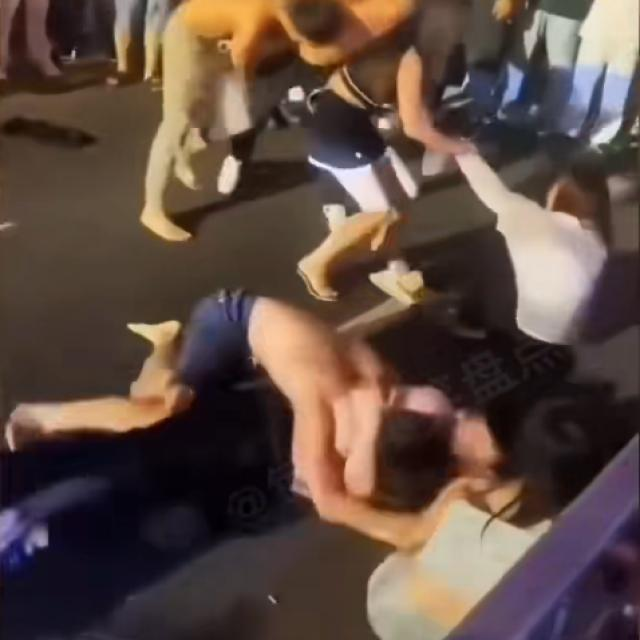fight: (236, 279, 509, 531), (168, 0, 530, 126)
